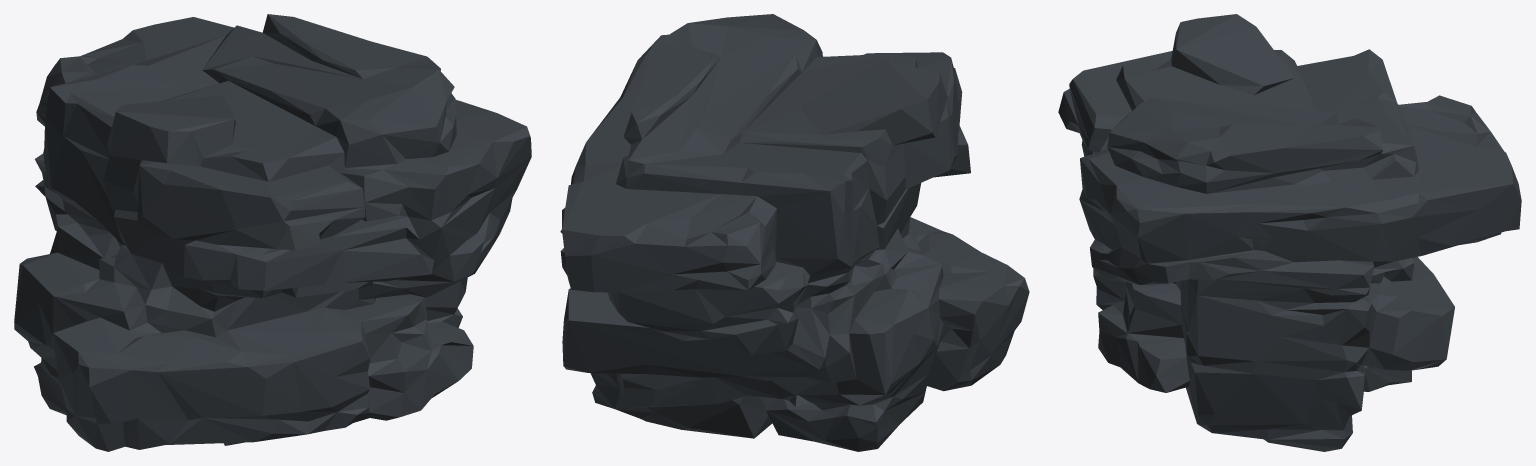
The model's file is MDungeon_CavernRock_Medium_03.FBX.
The picture shows the model from 3 angles, left to right: view 1: azimuth 30°, elevation 25°; view 2: azimuth 150°, elevation 25°; view 3: azimuth 270°, elevation 25°; orthographic projection. The views are drawn at different scales.
Parts seen in each view (by area): view 1: MDungeon_CavernRock_Medium_03_LOD0; view 2: MDungeon_CavernRock_Medium_03_LOD0; view 3: MDungeon_CavernRock_Medium_03_LOD0.
Part boxes in pixels (bbox=[...]): MDungeon_CavernRock_Medium_03_LOD0: bbox=[14, 14, 531, 451]; MDungeon_CavernRock_Medium_03_LOD0: bbox=[560, 14, 1029, 451]; MDungeon_CavernRock_Medium_03_LOD0: bbox=[1058, 14, 1521, 451].
Size of what is drawn, in the model's own units: 22.67 by 18.73 by 25.09.
